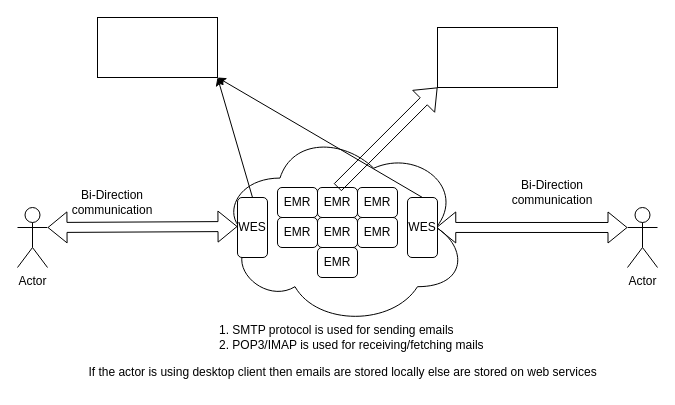
The diagram is 675 pixels wide and 405 high, and some of its shapes have lost their labels. The centre of each missing label's shape, as x and y in pixels:
"Internet containing all the Email Recipients (EMR)" goes at (x=497, y=57).
"WEB Email server (WES)" goes at (x=157, y=47).
